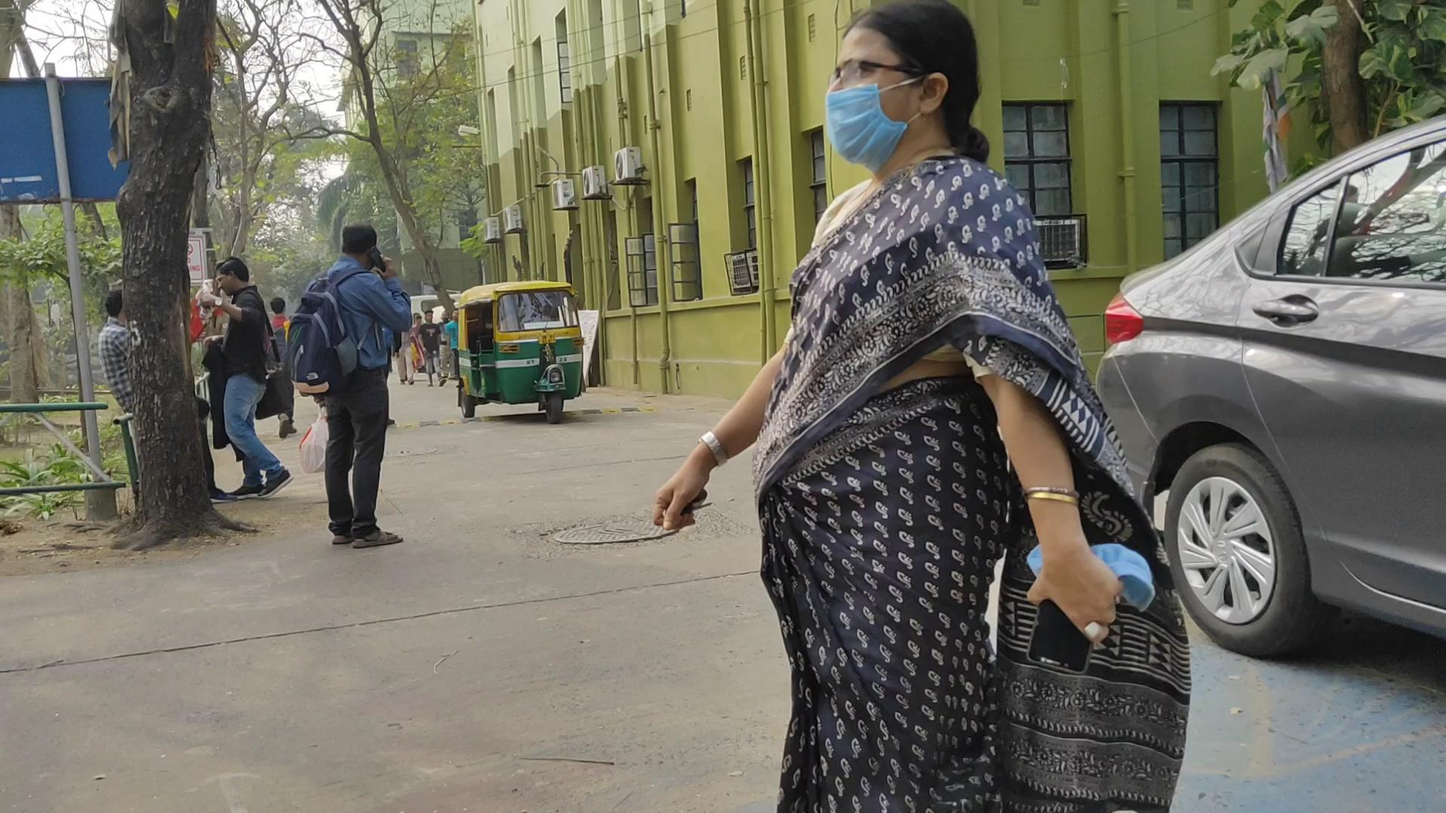Auto: (456, 280, 584, 425)
car: (1098, 102, 1446, 723)
